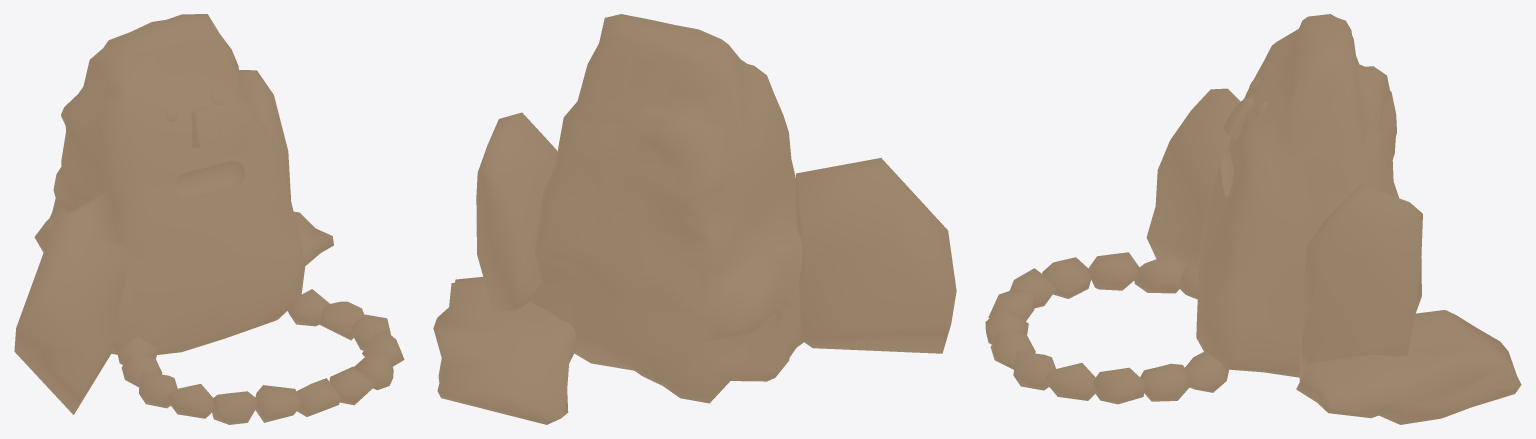
File: cliff1lowpolyver.fbx
The picture shows the model from 3 angles, left to right: view 1: azimuth 30°, elevation 25°; view 2: azimuth 150°, elevation 25°; view 3: azimuth 270°, elevation 25°; orthographic projection. The views are drawn at different scales.
Visible parts, largest first — view 1: body3, body3_2, Platonic, body1, body2_1, nose; view 2: body3, body3_2, body2_1, body1; view 3: body3, body1, Platonic, body2_1, body3_2, nose.
Boxes of the visible parts, bbox=[...] form: body3: bbox=[34, 14, 305, 354]; body3_2: bbox=[14, 192, 129, 414]; Platonic: bbox=[117, 289, 404, 424]; body1: bbox=[239, 70, 290, 199]; body2_1: bbox=[294, 211, 333, 265]; nose: bbox=[191, 107, 220, 147]; body3: bbox=[530, 14, 803, 403]; body3_2: bbox=[796, 158, 956, 353]; body2_1: bbox=[433, 277, 576, 424]; body1: bbox=[476, 112, 557, 311]; body3: bbox=[1196, 14, 1398, 377]; body1: bbox=[1299, 184, 1422, 380]; Platonic: bbox=[985, 252, 1228, 404]; body2_1: bbox=[1296, 310, 1521, 424]; body3_2: bbox=[1146, 88, 1240, 267]; nose: bbox=[1223, 96, 1254, 140].
Bounding box in the file's own units: 841 × 634 × 956.
